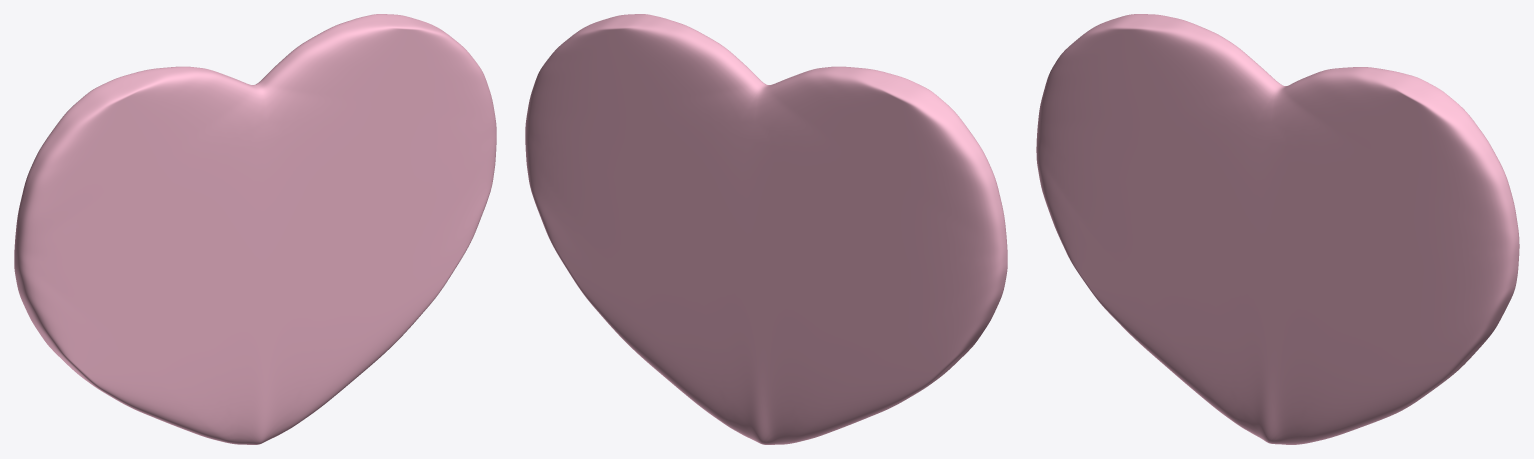
File: Heart.fbx
3 renders of one model, left to right at view 1: azimuth 30°, elevation 25°; view 2: azimuth 150°, elevation 25°; view 3: azimuth 330°, elevation 25°, orthographic.
Parts seen in each view (by area): view 1: Plane; view 2: Plane; view 3: Plane.
Boxes of the visible parts, left/top/right/bottom form: Plane: left=14, top=14, right=496, bottom=444; Plane: left=525, top=14, right=1007, bottom=444; Plane: left=1036, top=14, right=1519, bottom=444.
Size of the model in its own units: 872 by 685 by 61.56.
